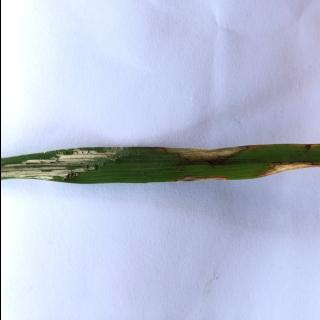Hawar-Daun: (0, 147, 128, 181), (153, 144, 255, 162), (259, 161, 320, 178)
